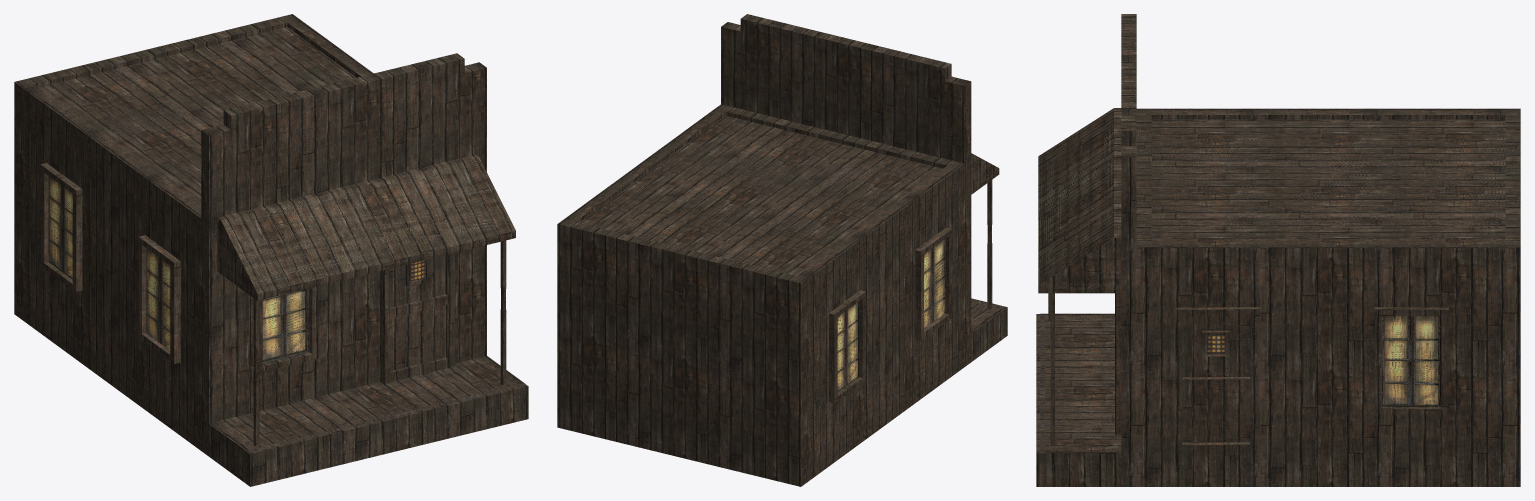
File: House 8 N Ex.fbx
3 renders of one model, left to right at view 1: azimuth 30°, elevation 25°; view 2: azimuth 150°, elevation 25°; view 3: azimuth 270°, elevation 25°, orthographic. The views are drawn at different scales.
Parts seen in each view (by area): view 1: Model; view 2: Model; view 3: Model.
Part boxes in pixels (box(x1,y1,x2,y2)): Model: box(14, 14, 528, 486); Model: box(557, 14, 1007, 486); Model: box(1036, 14, 1520, 486).
Bounding box in the file's own units: 33.27 × 36.83 × 46.92.
